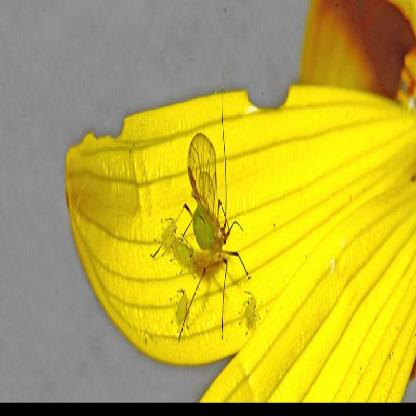aphid: (166, 106, 248, 347), (170, 221, 198, 281), (239, 282, 267, 335), (156, 205, 178, 260), (172, 282, 194, 335)
